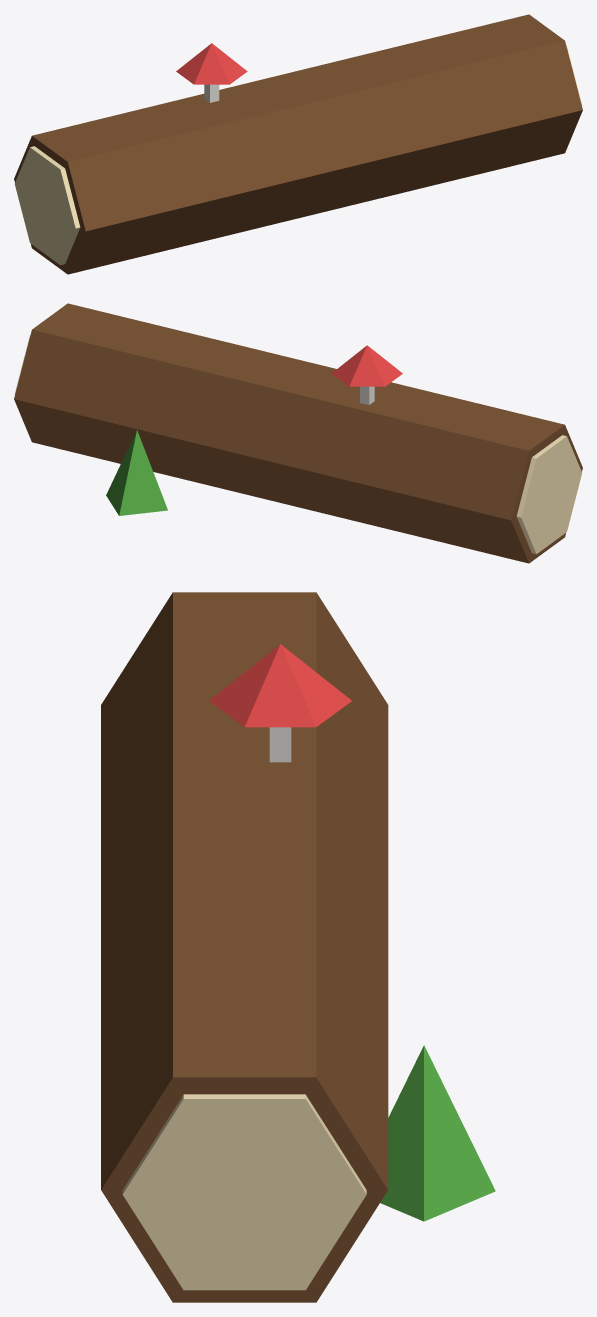
The model's file is tronco_caido.glb.
The picture shows the model from 3 angles, top to bottom: view 1: azimuth 30°, elevation 25°; view 2: azimuth 150°, elevation 25°; view 3: azimuth 270°, elevation 25°; orthographic projection. The views are drawn at different scales.
Visible parts, largest first — view 1: corpo; view 2: corpo; view 3: corpo.
Part boxes in pixels (x1,y1,x2,y2): corpo: (14, 14, 582, 274); corpo: (14, 303, 582, 563); corpo: (101, 592, 495, 1302).
Bounding box in the file's own units: 0.652 × 0.22 × 0.22.
